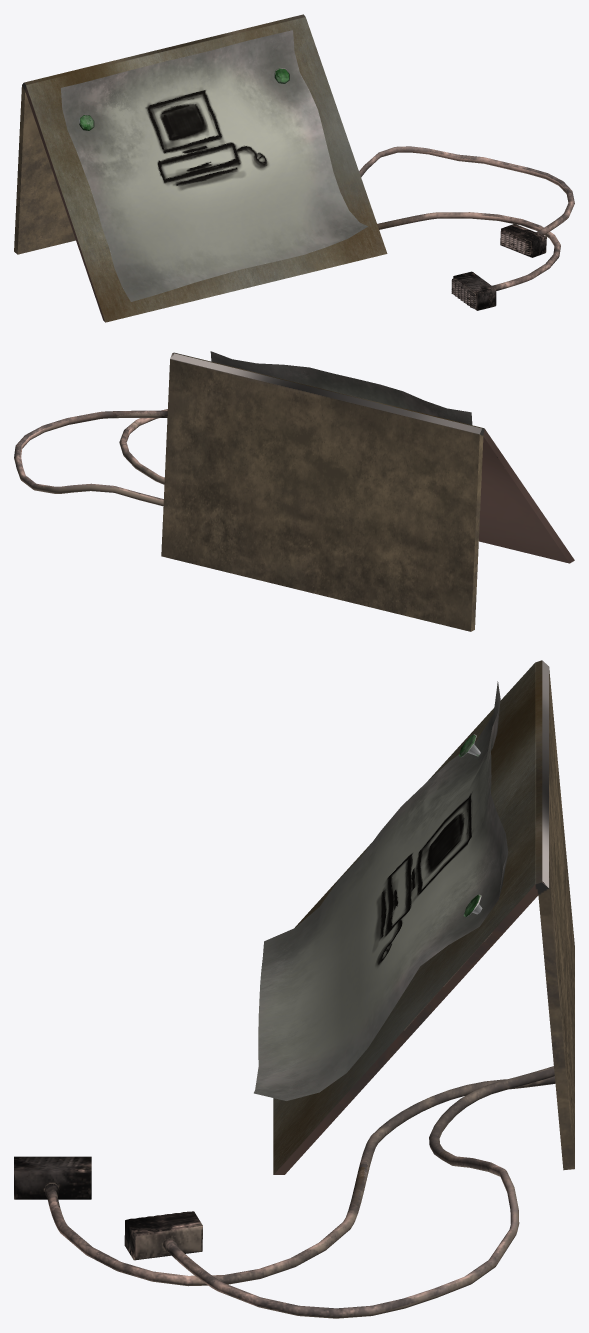
3 renders of one model, top to bottom at view 1: azimuth 30°, elevation 25°; view 2: azimuth 150°, elevation 25°; view 3: azimuth 270°, elevation 25°, orthographic. The views are drawn at different scales.
Parts seen in each view (by area): view 1: Cube.001, Cube.002; view 2: Cube.002, Cube.001; view 3: Cube.002, Cube.001.
Boxes of the visible parts, bbox=[...] form: Cube.001: bbox=[61, 30, 367, 301]; Cube.002: bbox=[14, 14, 574, 322]; Cube.002: bbox=[14, 352, 574, 631]; Cube.001: bbox=[210, 351, 472, 424]; Cube.002: bbox=[14, 660, 574, 1318]; Cube.001: bbox=[254, 681, 508, 1100].
Size of the model in its own units: 3.42 by 1.25 by 2.14.
Materials: 2 (2 with a texture image).
